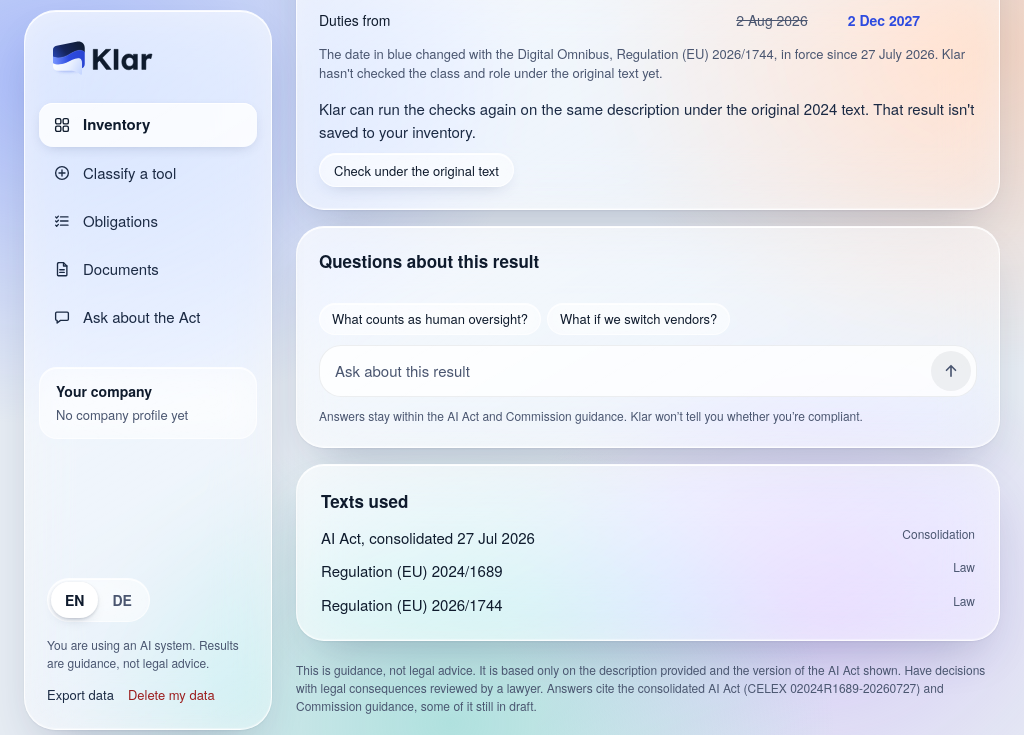
it: Questions about this result › sends the result with the question and cites its provisions (reviewer view)
(page scrolled)
Click the text box labelled "Ask about this result".
click(629, 371)  # box x1=335 y1=351 x2=923 y2=391
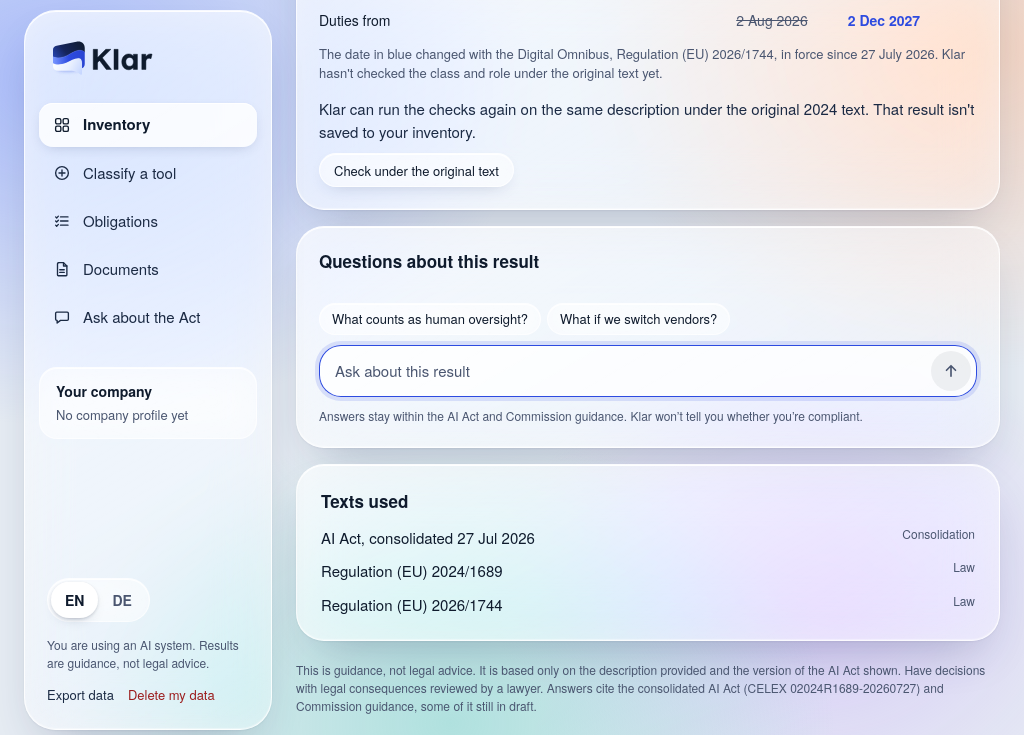
Type keys "Do we have to tell applicants that AI was used?"
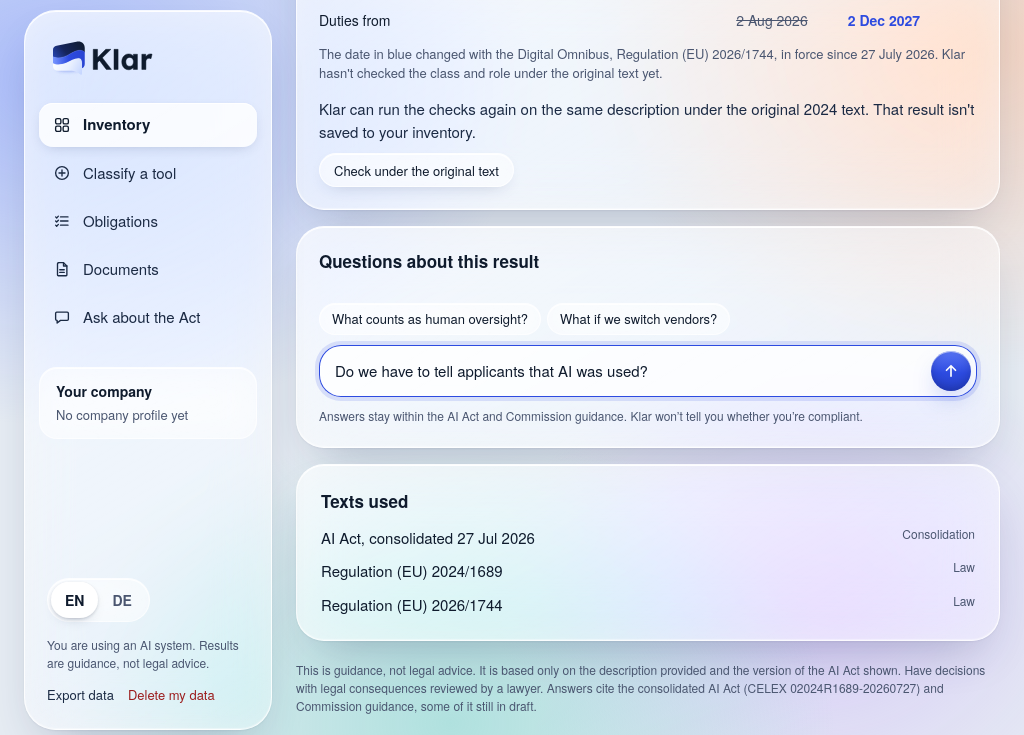
Press Enter
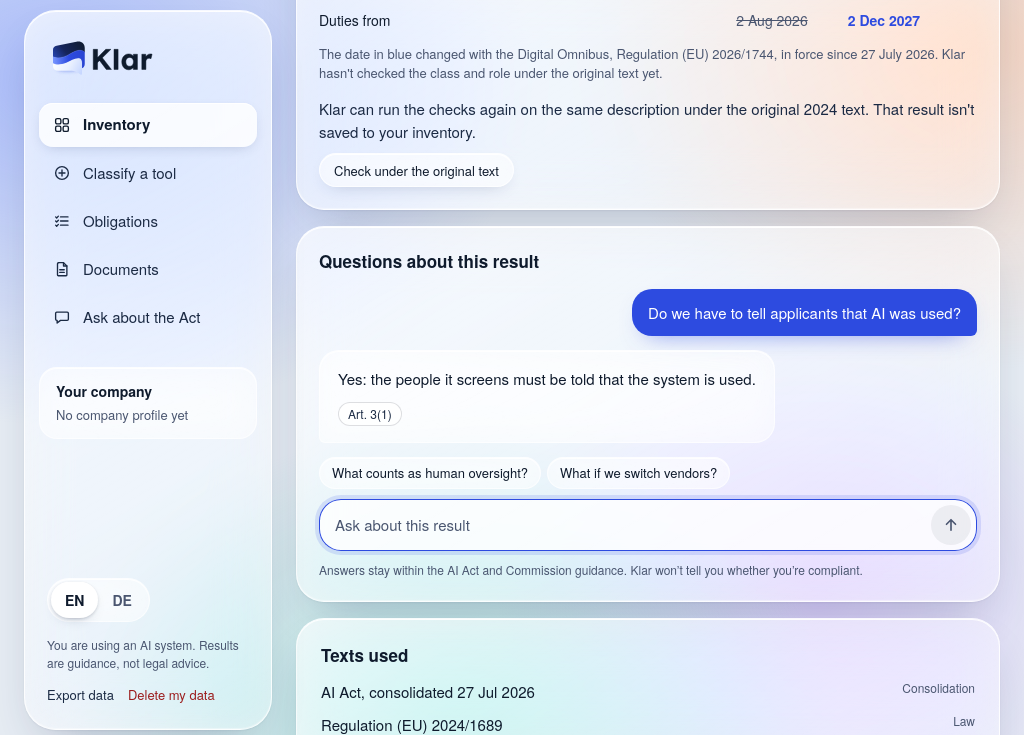
Check: the text "the people it screens must be told" is shown, box x1=338 y1=368 x2=756 y2=389
